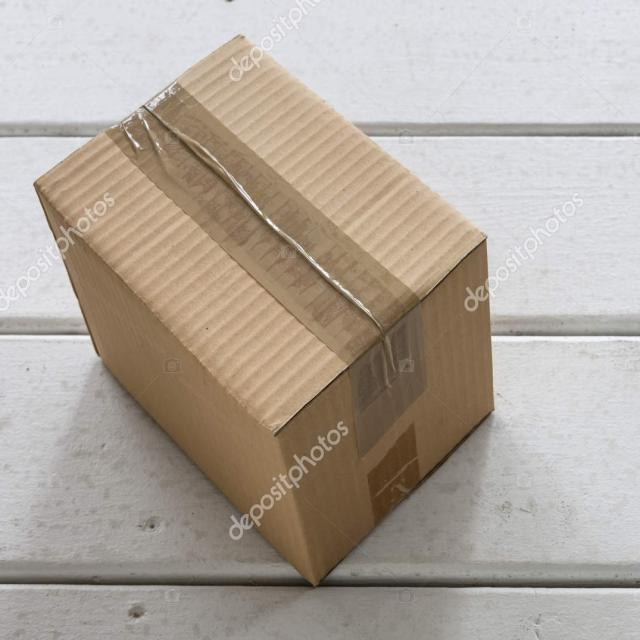box: (31, 34, 495, 590)
